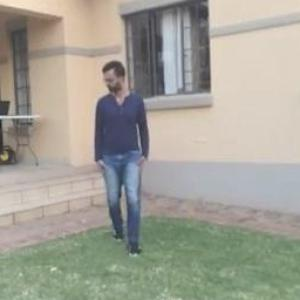follow: (89, 52, 148, 256)
